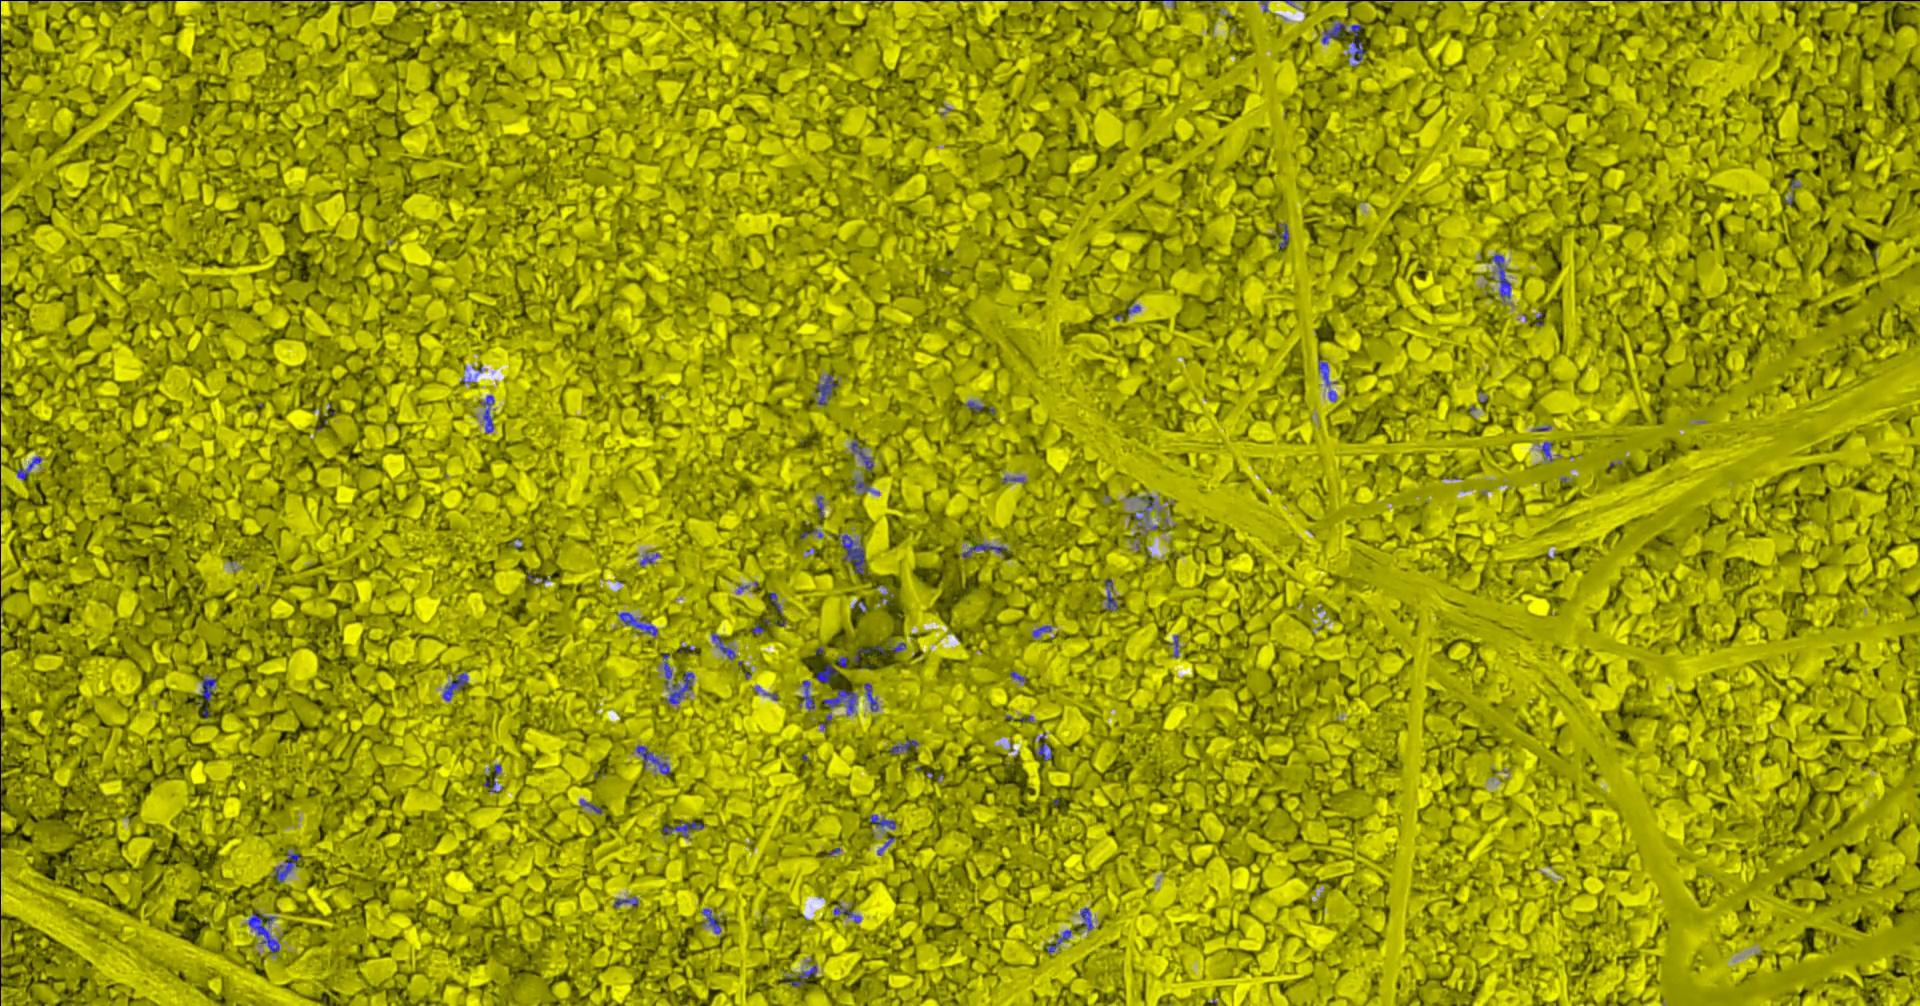ant: (1322, 23, 1364, 65), (248, 909, 279, 951), (635, 746, 669, 774), (841, 533, 865, 573), (1490, 254, 1510, 297), (618, 612, 657, 635), (822, 688, 856, 714), (665, 672, 693, 702), (662, 818, 703, 837), (273, 854, 300, 882), (814, 373, 837, 404), (961, 542, 1006, 558), (442, 673, 467, 700), (783, 965, 817, 986), (711, 633, 735, 659), (851, 441, 872, 470), (17, 456, 41, 479), (1046, 929, 1070, 951), (701, 908, 720, 934), (833, 904, 860, 922), (853, 645, 884, 661), (1318, 359, 1336, 385), (1103, 579, 1117, 610), (889, 739, 917, 754), (815, 664, 837, 683), (800, 680, 814, 709), (863, 683, 877, 711), (201, 676, 216, 701), (483, 395, 493, 432), (1274, 224, 1288, 249), (870, 814, 895, 828), (1077, 907, 1092, 929), (1035, 743, 1051, 760), (662, 653, 670, 683), (613, 897, 637, 907), (1032, 625, 1050, 636), (1542, 441, 1552, 460), (817, 495, 823, 517)
